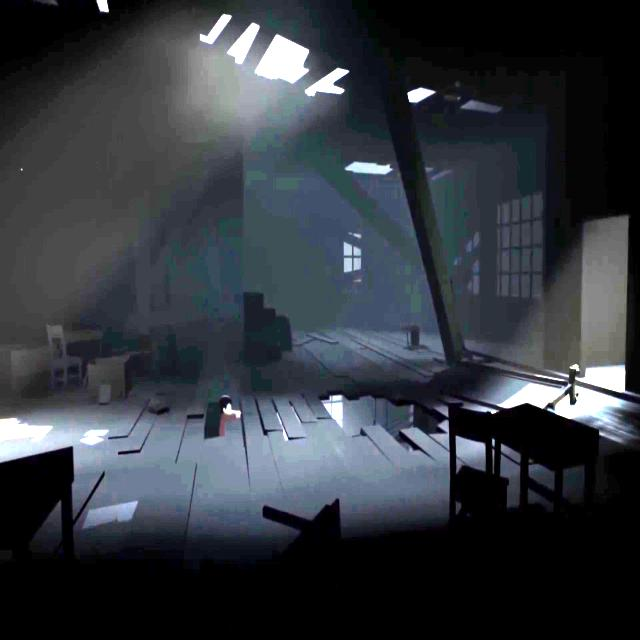boy: (219, 394, 241, 437)
